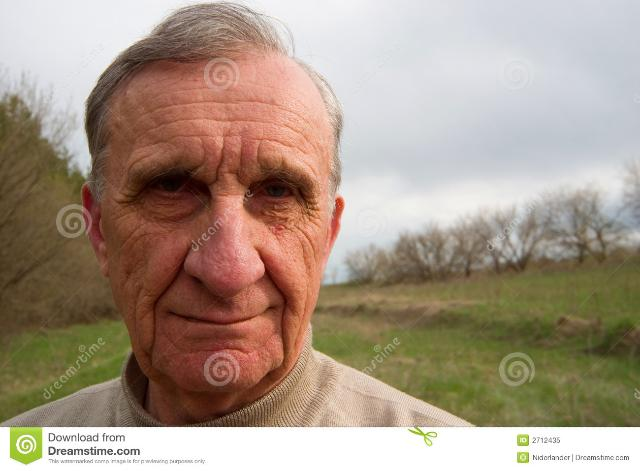chin: (207, 340, 250, 358)
crows_feet: (115, 186, 143, 214), (300, 194, 322, 226)
forehead: (149, 94, 199, 114), (256, 95, 296, 119), (203, 92, 243, 114), (264, 130, 300, 152), (166, 127, 207, 145), (157, 112, 189, 132), (210, 112, 252, 126)
frown_line: (212, 150, 226, 185), (233, 147, 247, 179), (250, 141, 264, 167), (194, 144, 208, 170)
gummy_smile: (154, 262, 186, 300), (262, 263, 292, 301)
masseter: (125, 222, 148, 250), (301, 229, 319, 261)
sad_smile: (269, 312, 293, 356), (142, 310, 166, 350)
